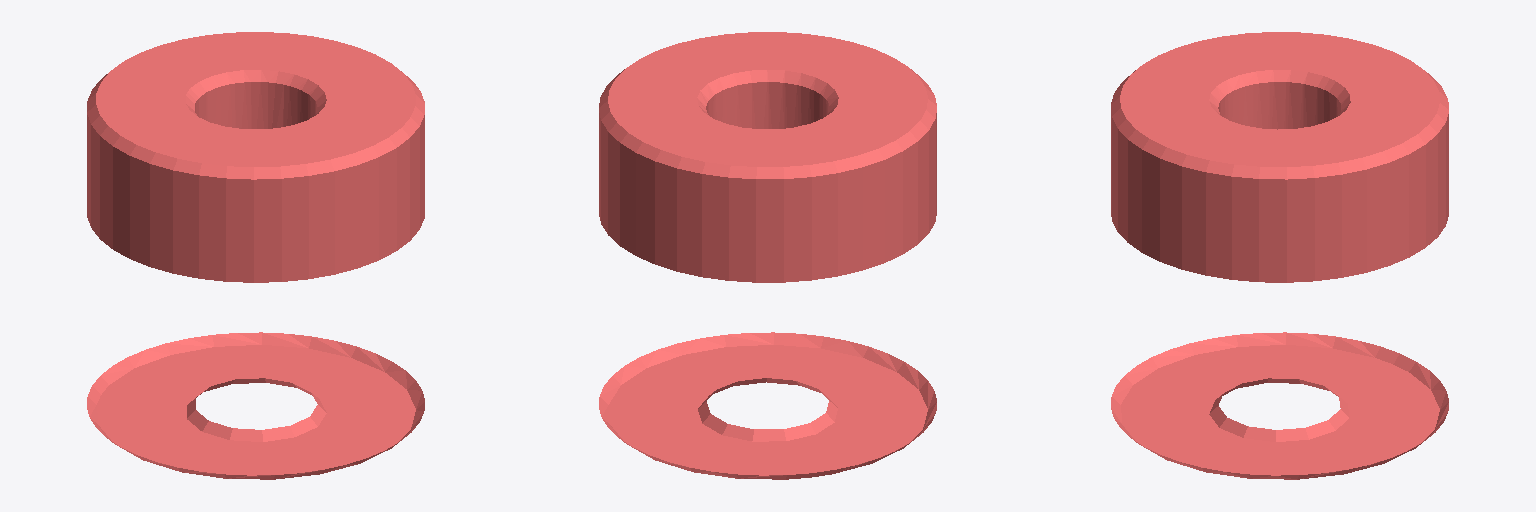
The model's file is solo12_hip_fe_13.obj.
3 views of the same model, side by side, from view 1: azimuth 30°, elevation 25°; view 2: azimuth 150°, elevation 25°; view 3: azimuth 270°, elevation 25° (orthographic).
Size of the model in its own units: 0.011 by 0.0112 by 0.011.